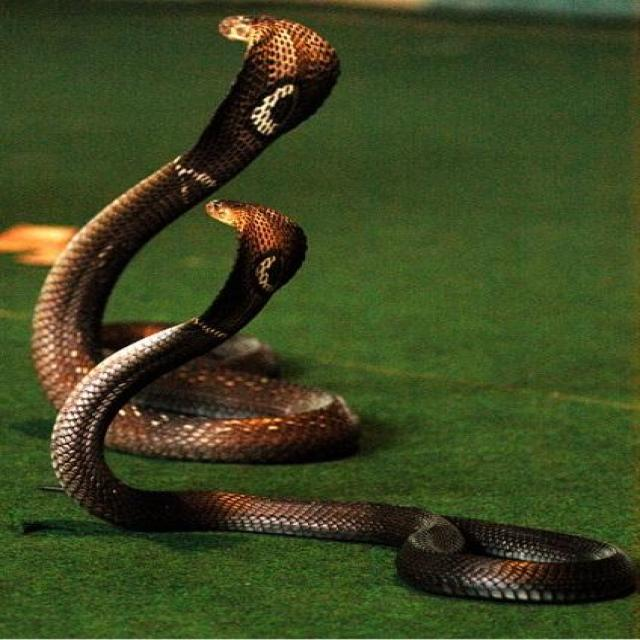Snake: (29, 12, 637, 604)
